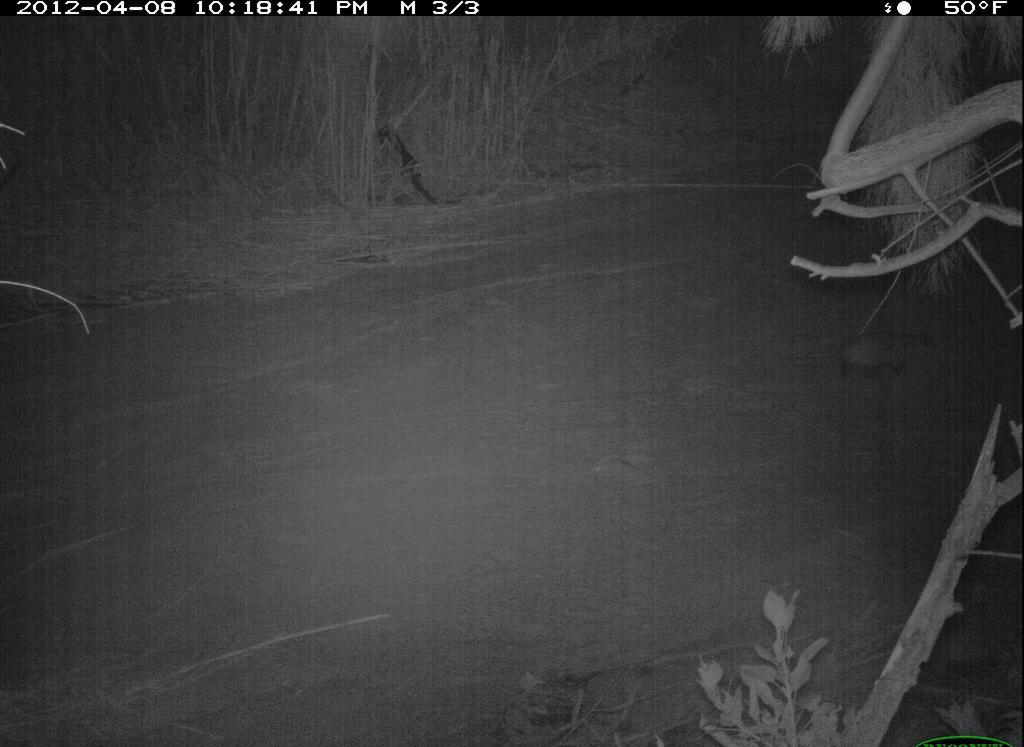opossum: (825, 319, 941, 388)
